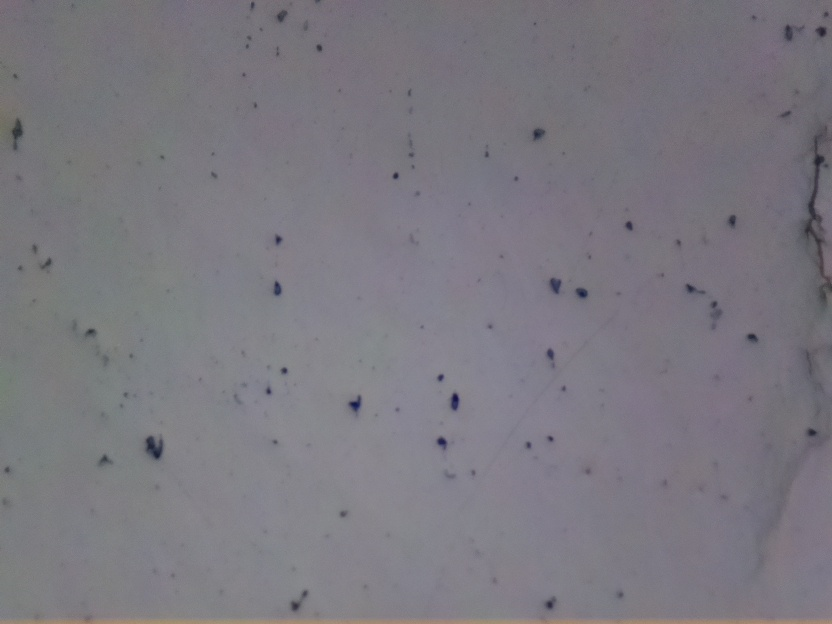crack: (801, 123, 832, 300)
